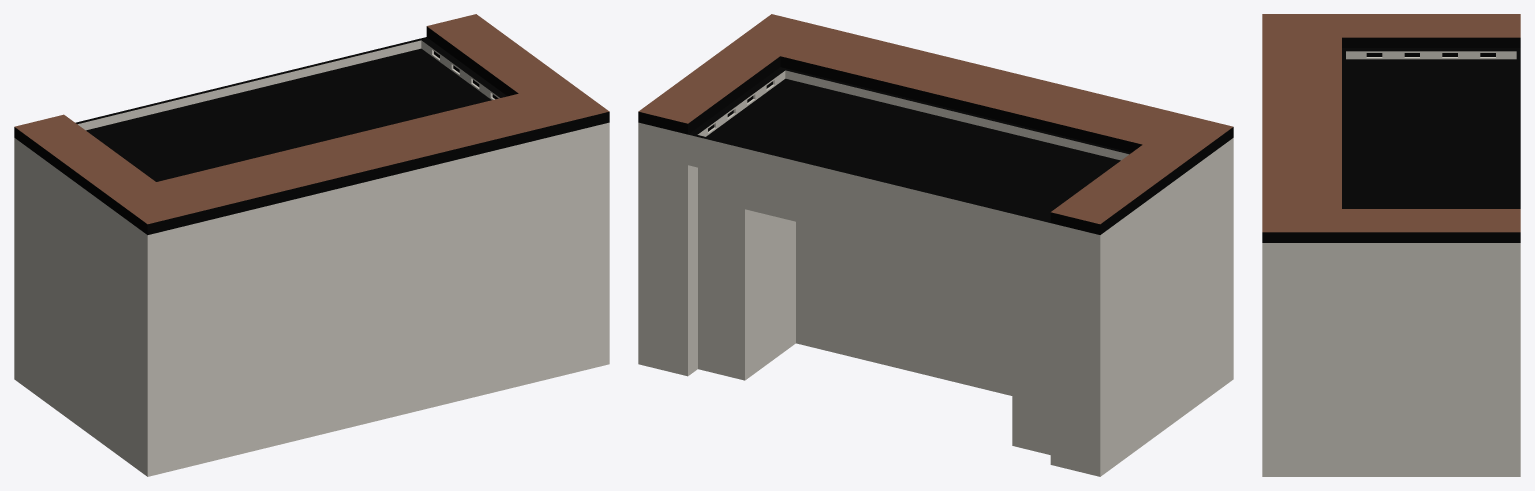
File: Teppanyaki_Stove.fbx
3 renders of one model, left to right at view 1: azimuth 30°, elevation 25°; view 2: azimuth 150°, elevation 25°; view 3: azimuth 270°, elevation 25°, orthographic. The views are drawn at different scales.
Parts seen in each view (by area): view 1: Teppanyaki_Stove; view 2: Teppanyaki_Stove; view 3: Teppanyaki_Stove.
Boxes of the visible parts, x1,y1,x2,y2 form: Teppanyaki_Stove: (14,14,609,476); Teppanyaki_Stove: (638,14,1233,476); Teppanyaki_Stove: (1262,14,1520,476).
Bounding box in the file's own units: 2 × 1.05 × 1.
